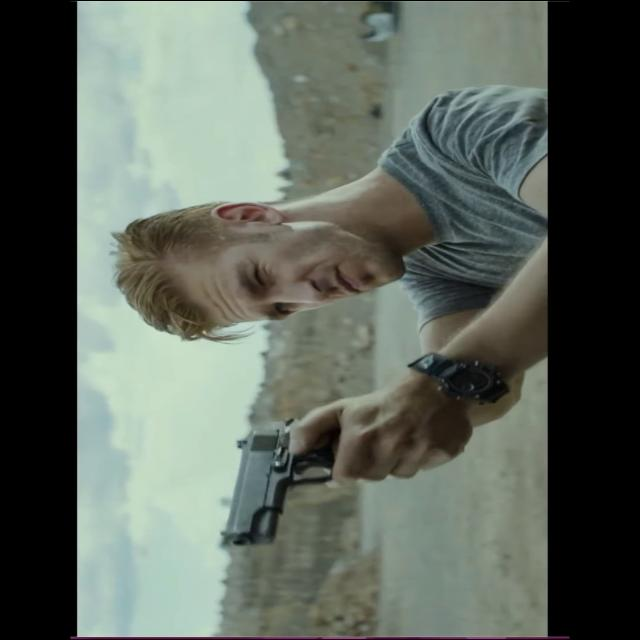weapons: (208, 412, 372, 556)
